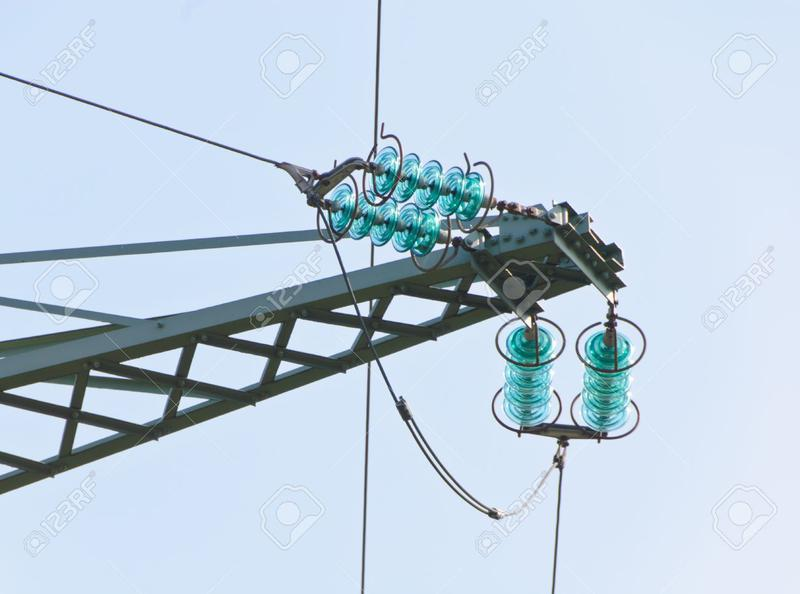isolator: (327, 145, 486, 258), (502, 323, 633, 430)
